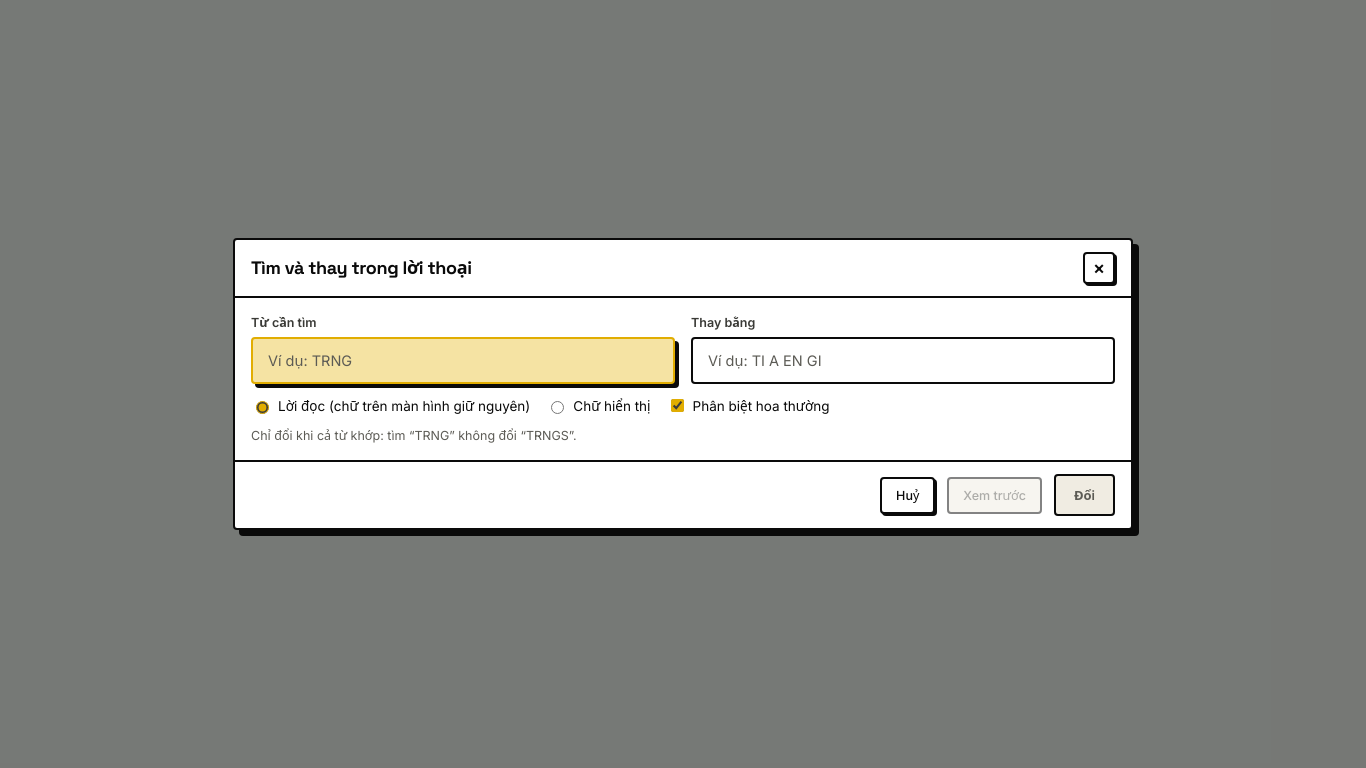
ScriptReplaceDialog › previews every line before it changes anything, and names the beats it leaves alone
Expected: the button with test id "script-replace-apply" is disabled, [1054,474,1115,516]
Type "TRNG" into the field with test id "script-replace-find" at (463, 360), box [251,337,675,384]
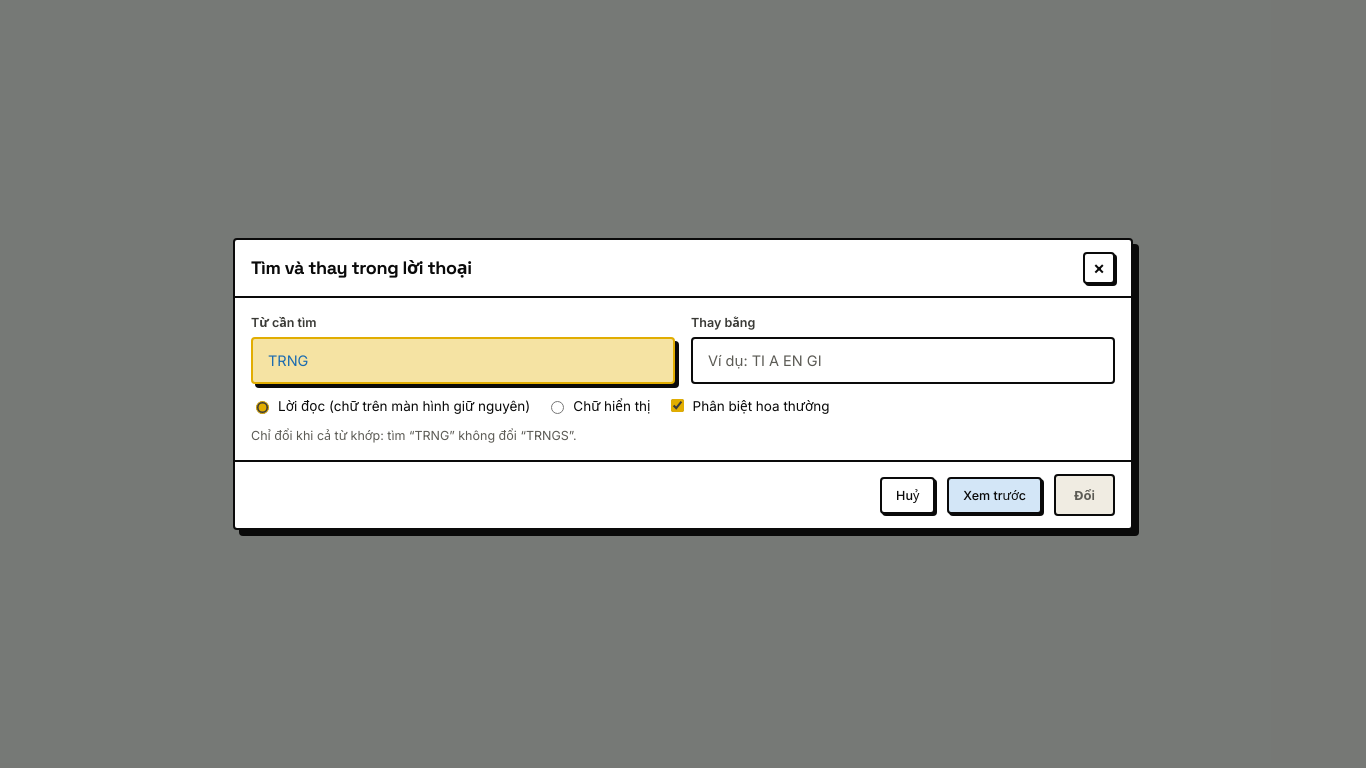
Type "TI A EN GI" into the field with test id "script-replace-with" at (903, 360), box [691,337,1115,384]
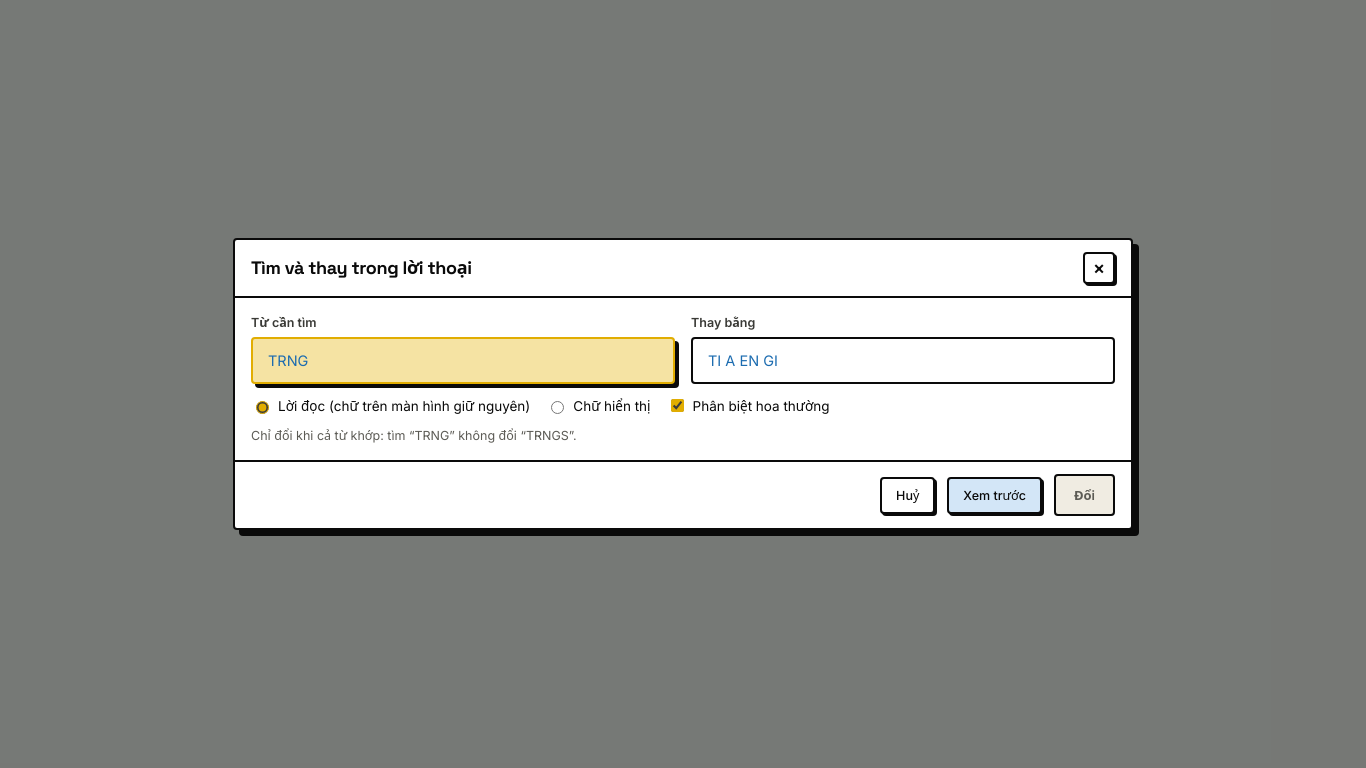
Click the button with test id "script-replace-preview" at (995, 495), box [947,476,1042,514]
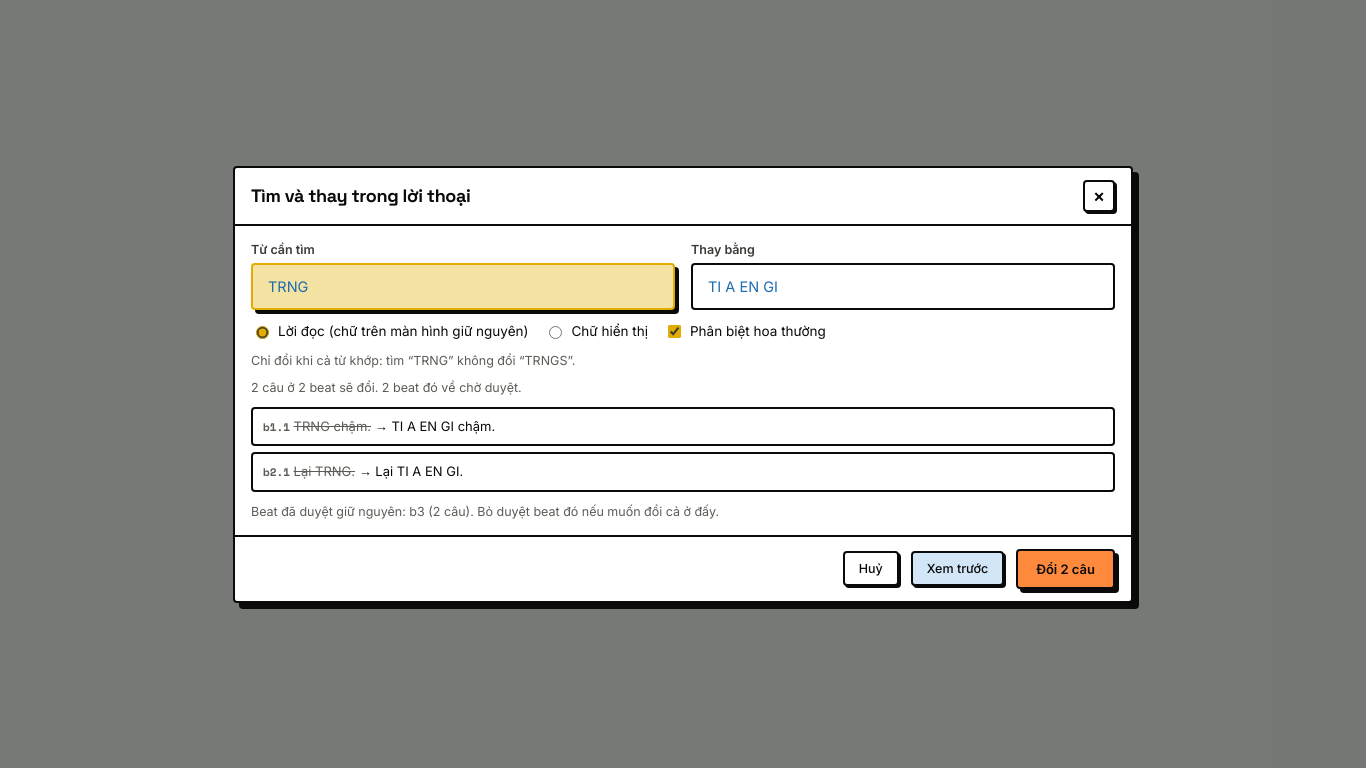
Result: the list item with test id "script-replace-match-b1.1" shows "TI A EN GI chậm." at [391,418,495,434]
Result: the message with test id "script-replace-summary" shows "2 câu ở 2 beat" at [251,380,522,394]
Result: the text with test id "script-replace-skipped" shows "b3 (2 câu)" at [409,504,470,518]
